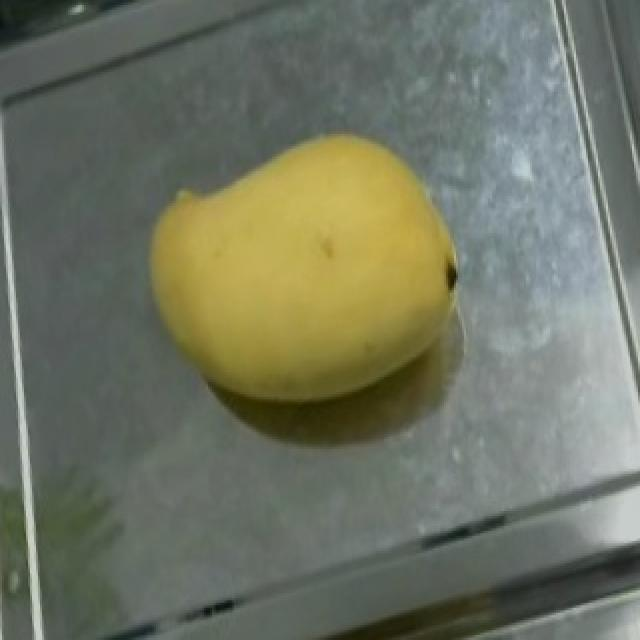fruit: (122, 79, 504, 459)
